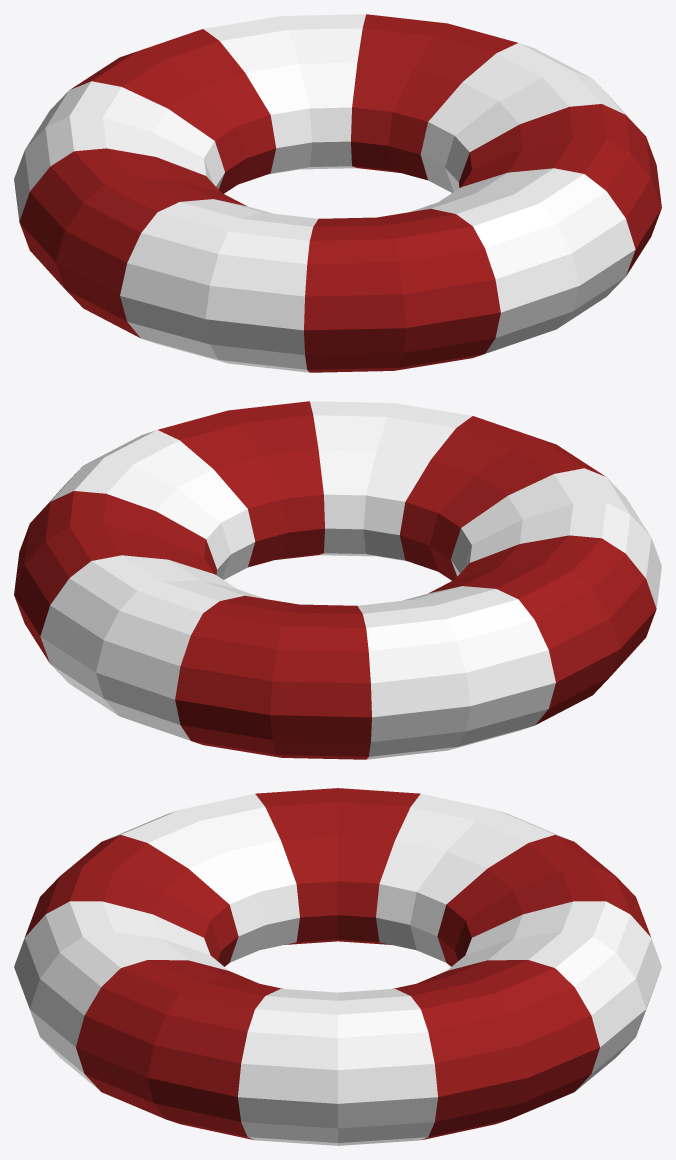
The model's file is schwimmreifen.FBX.
3 views of the same model, one above another, from view 1: azimuth 30°, elevation 25°; view 2: azimuth 150°, elevation 25°; view 3: azimuth 270°, elevation 25° (orthographic).
Parts seen in each view (by area): view 1: Schwimmreifen; view 2: Schwimmreifen; view 3: Schwimmreifen.
Part boxes in pixels (<box>): Schwimmreifen: <box>14,14,661,372</box>; Schwimmreifen: <box>14,401,661,759</box>; Schwimmreifen: <box>14,788,661,1145</box>.
Size of the model in its own units: 75.63 by 16.87 by 75.63.
